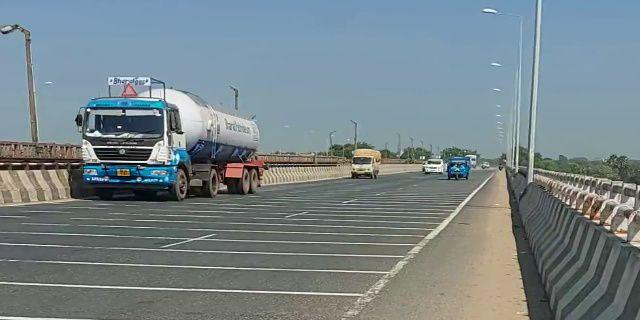Minitruck: (349, 145, 383, 182)
Truck: (71, 84, 269, 201)
